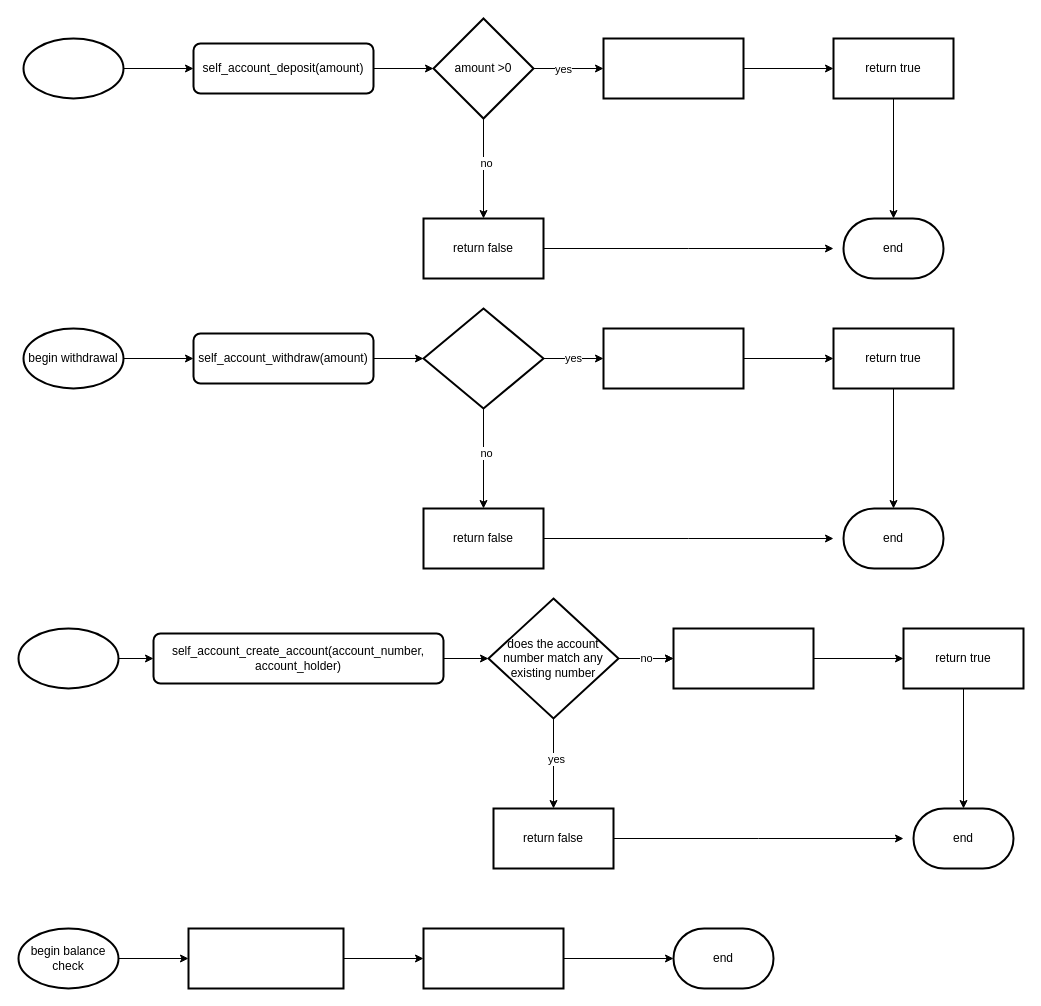
The diagram is 1041 pixels wide and 1006 high, and some of its shapes have lost their labels. The shapes that lost their labels are listed below. From the top down, each one's box as (x1, y1, x2, y2) in pixels, then its label:
(22, 37, 124, 99): begin deposit
(602, 37, 744, 99): self.balance + amount
(422, 307, 544, 409): 0<amount<balance
(602, 327, 744, 389): self.balance - amount
(17, 627, 119, 689): begin account creation
(672, 627, 814, 689): add account to accounts list
(187, 927, 344, 989): self_account_get_balance()
(422, 927, 564, 989): return self.abalnce
